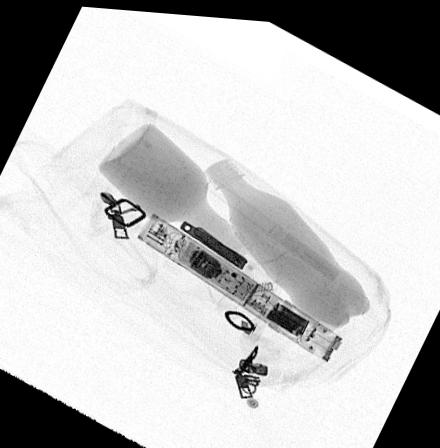Baton: (135, 210, 345, 360)
